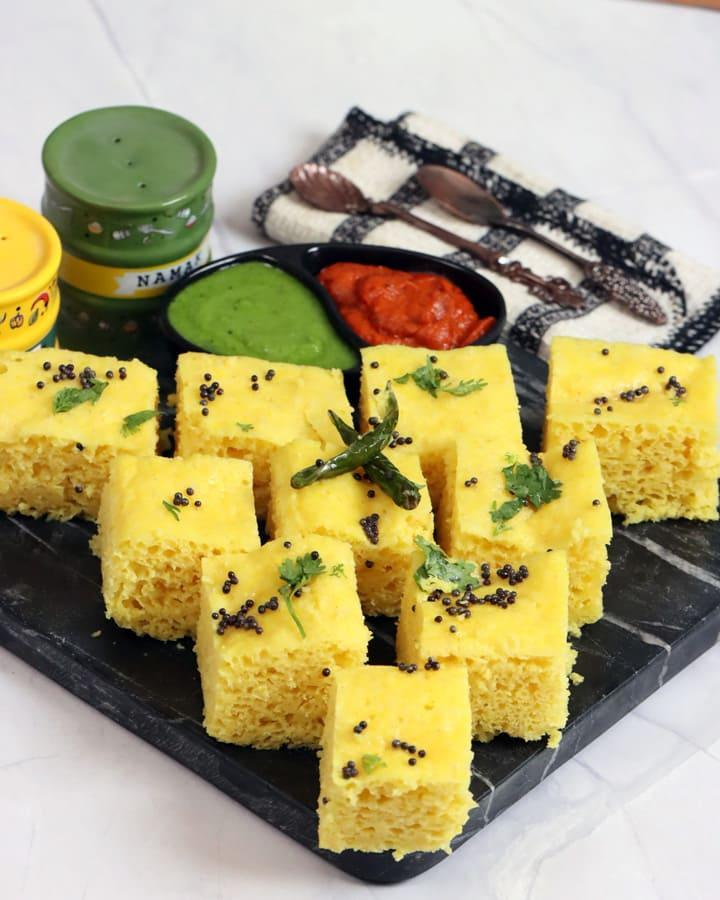dhokla: (3, 341, 720, 900)
